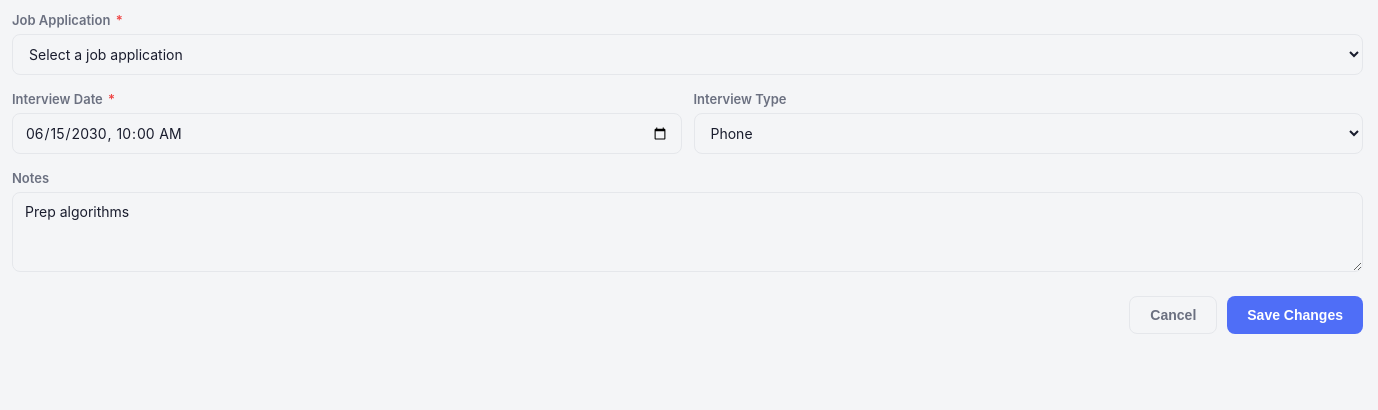
InterviewForm › shows the backend's error message when saving fails
The width and height of the screenshot is (1378, 410).
Click the button "Save Changes" at {"x": 1295, "y": 315}, box left=1227, top=296, right=1363, bottom=334
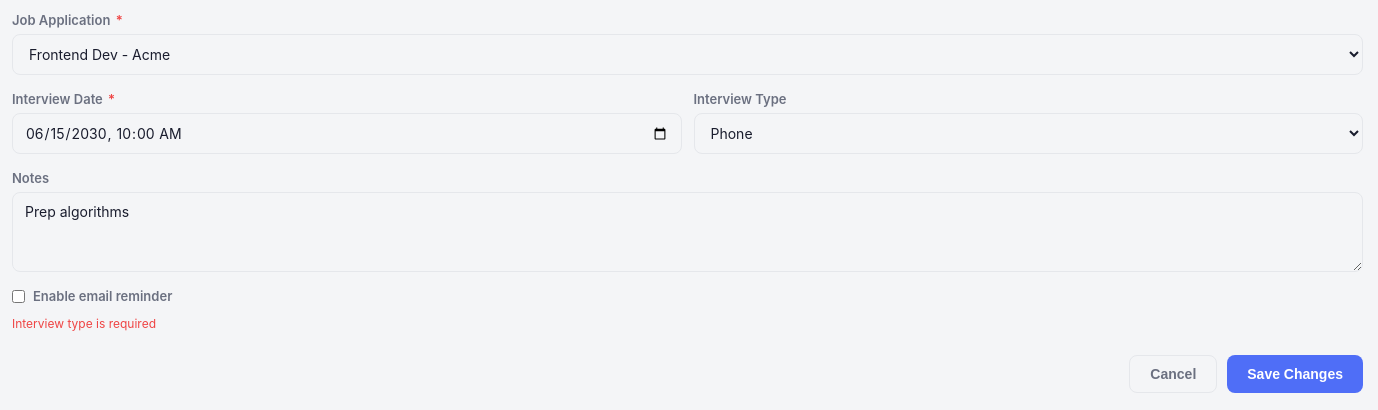
Result: the text "Interview type is required" is shown at left=12, top=316, right=156, bottom=331
